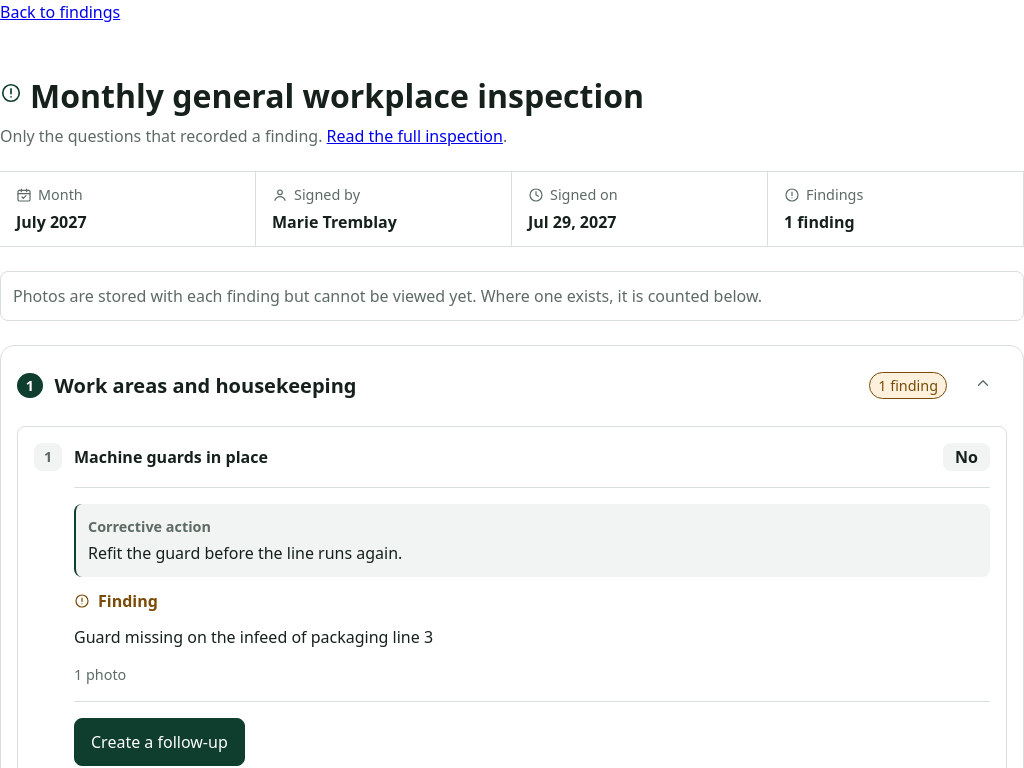
Test: InspectionFindingsRoute — ciclo del hallazgo › abre la composición en la etapa que escribiría, marcada como no registrada
The image size is (1024, 768).
Click the button "Create a follow-up" at (159, 742), box [74,718,245,766]
(page scrolled)
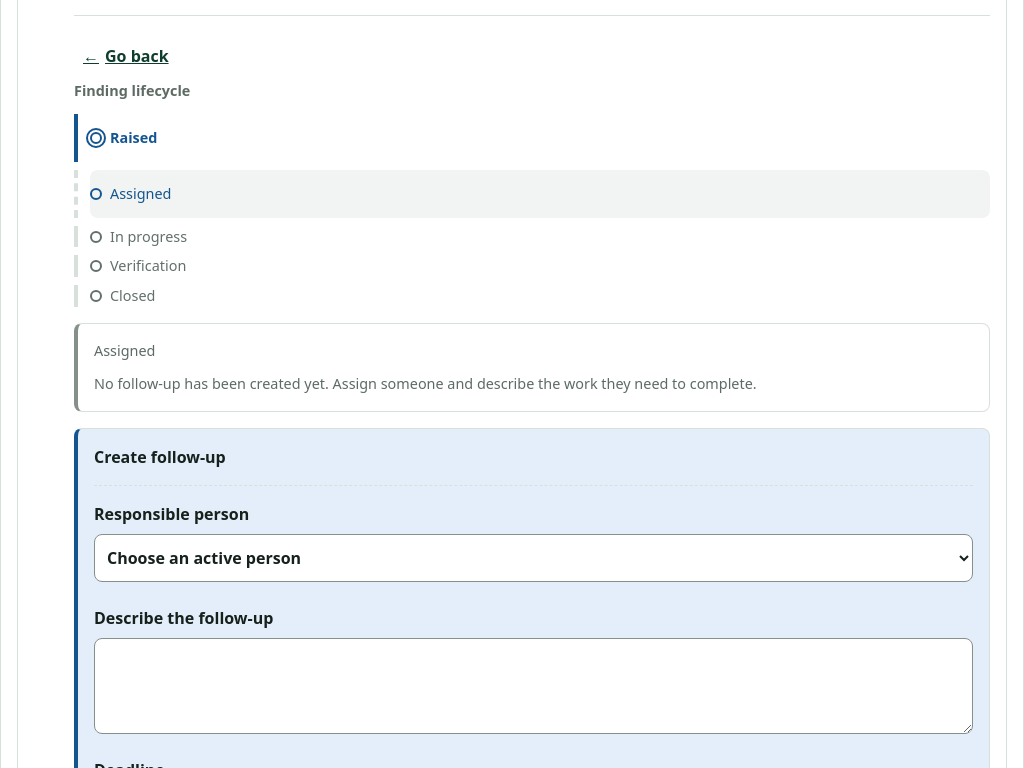
Expected: the text "No follow-up has been created yet" is shown, [94,374,757,393]
